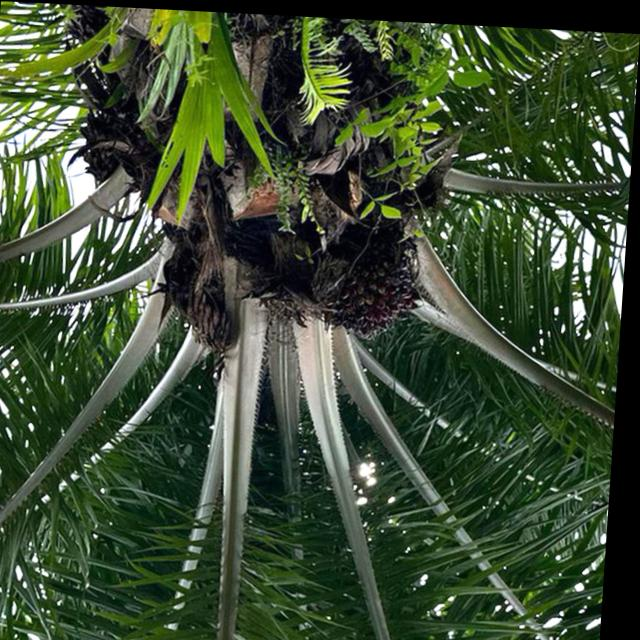ripe: (317, 229, 437, 341)
